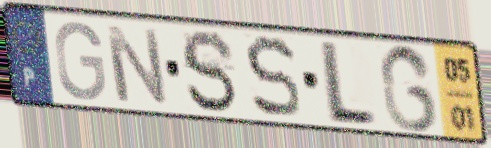G: (377, 41, 441, 135), (52, 18, 109, 103)
L: (319, 38, 379, 129)
N: (101, 22, 171, 108)
S: (178, 27, 241, 116), (242, 33, 304, 122)
